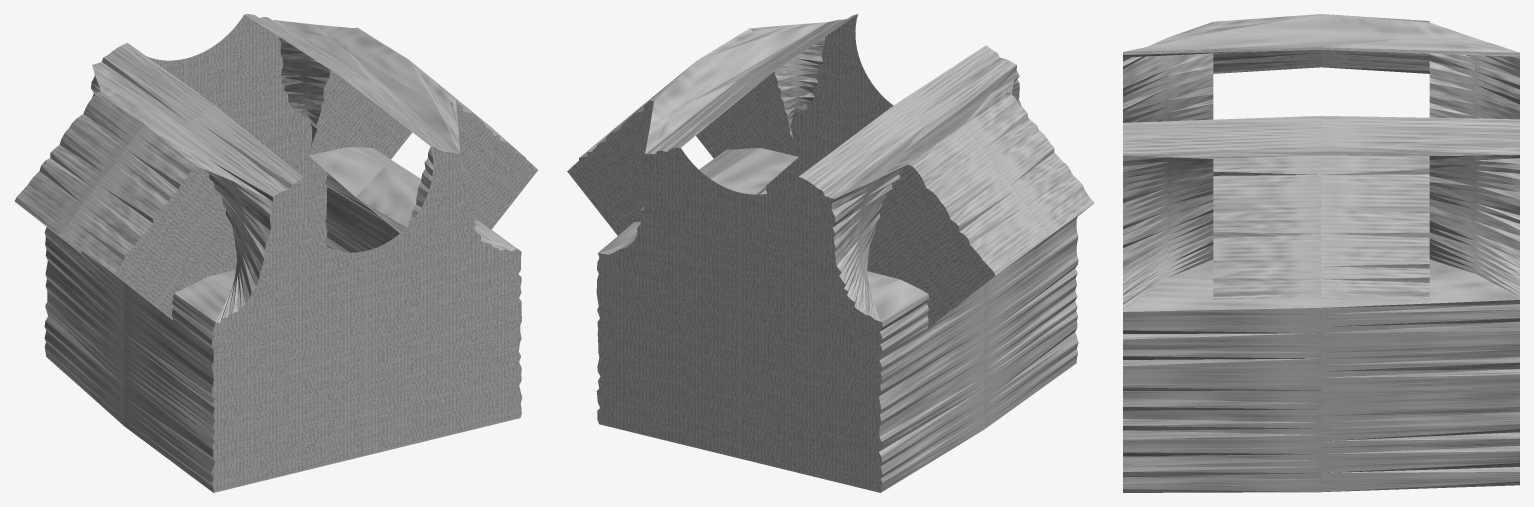
The model's file is bust_plus_2cm_boxmesh.obj.
The picture shows the model from 3 angles, left to right: view 1: azimuth 30°, elevation 25°; view 2: azimuth 150°, elevation 25°; view 3: azimuth 270°, elevation 25°; orthographic projection. The views are drawn at different scales.
Bounding box in the file's own units: 75.99 × 50.17 × 55.
Materials: 1 (1 with a texture image).
